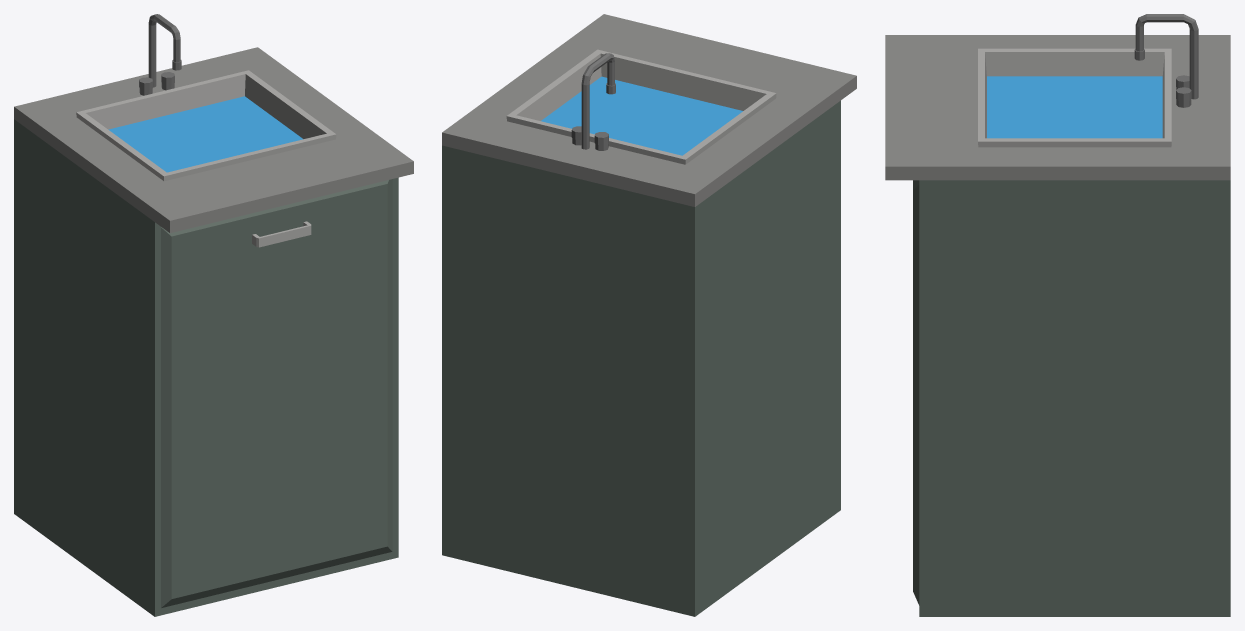
File: Kitchen_Sink_Water.glb
3 views of the same model, side by side, from view 1: azimuth 30°, elevation 25°; view 2: azimuth 150°, elevation 25°; view 3: azimuth 270°, elevation 25° (orthographic). The views are drawn at different scales.
Visible parts, largest first — view 1: Kitchen_Sink; view 2: Kitchen_Sink; view 3: Kitchen_Sink.
Part boxes in pixels (x1,y1,x2,y2): Kitchen_Sink: (14,14,413,616); Kitchen_Sink: (442,14,856,616); Kitchen_Sink: (885,14,1230,616).
Size of the model in its own units: 1.01 by 1.92 by 1.12.
